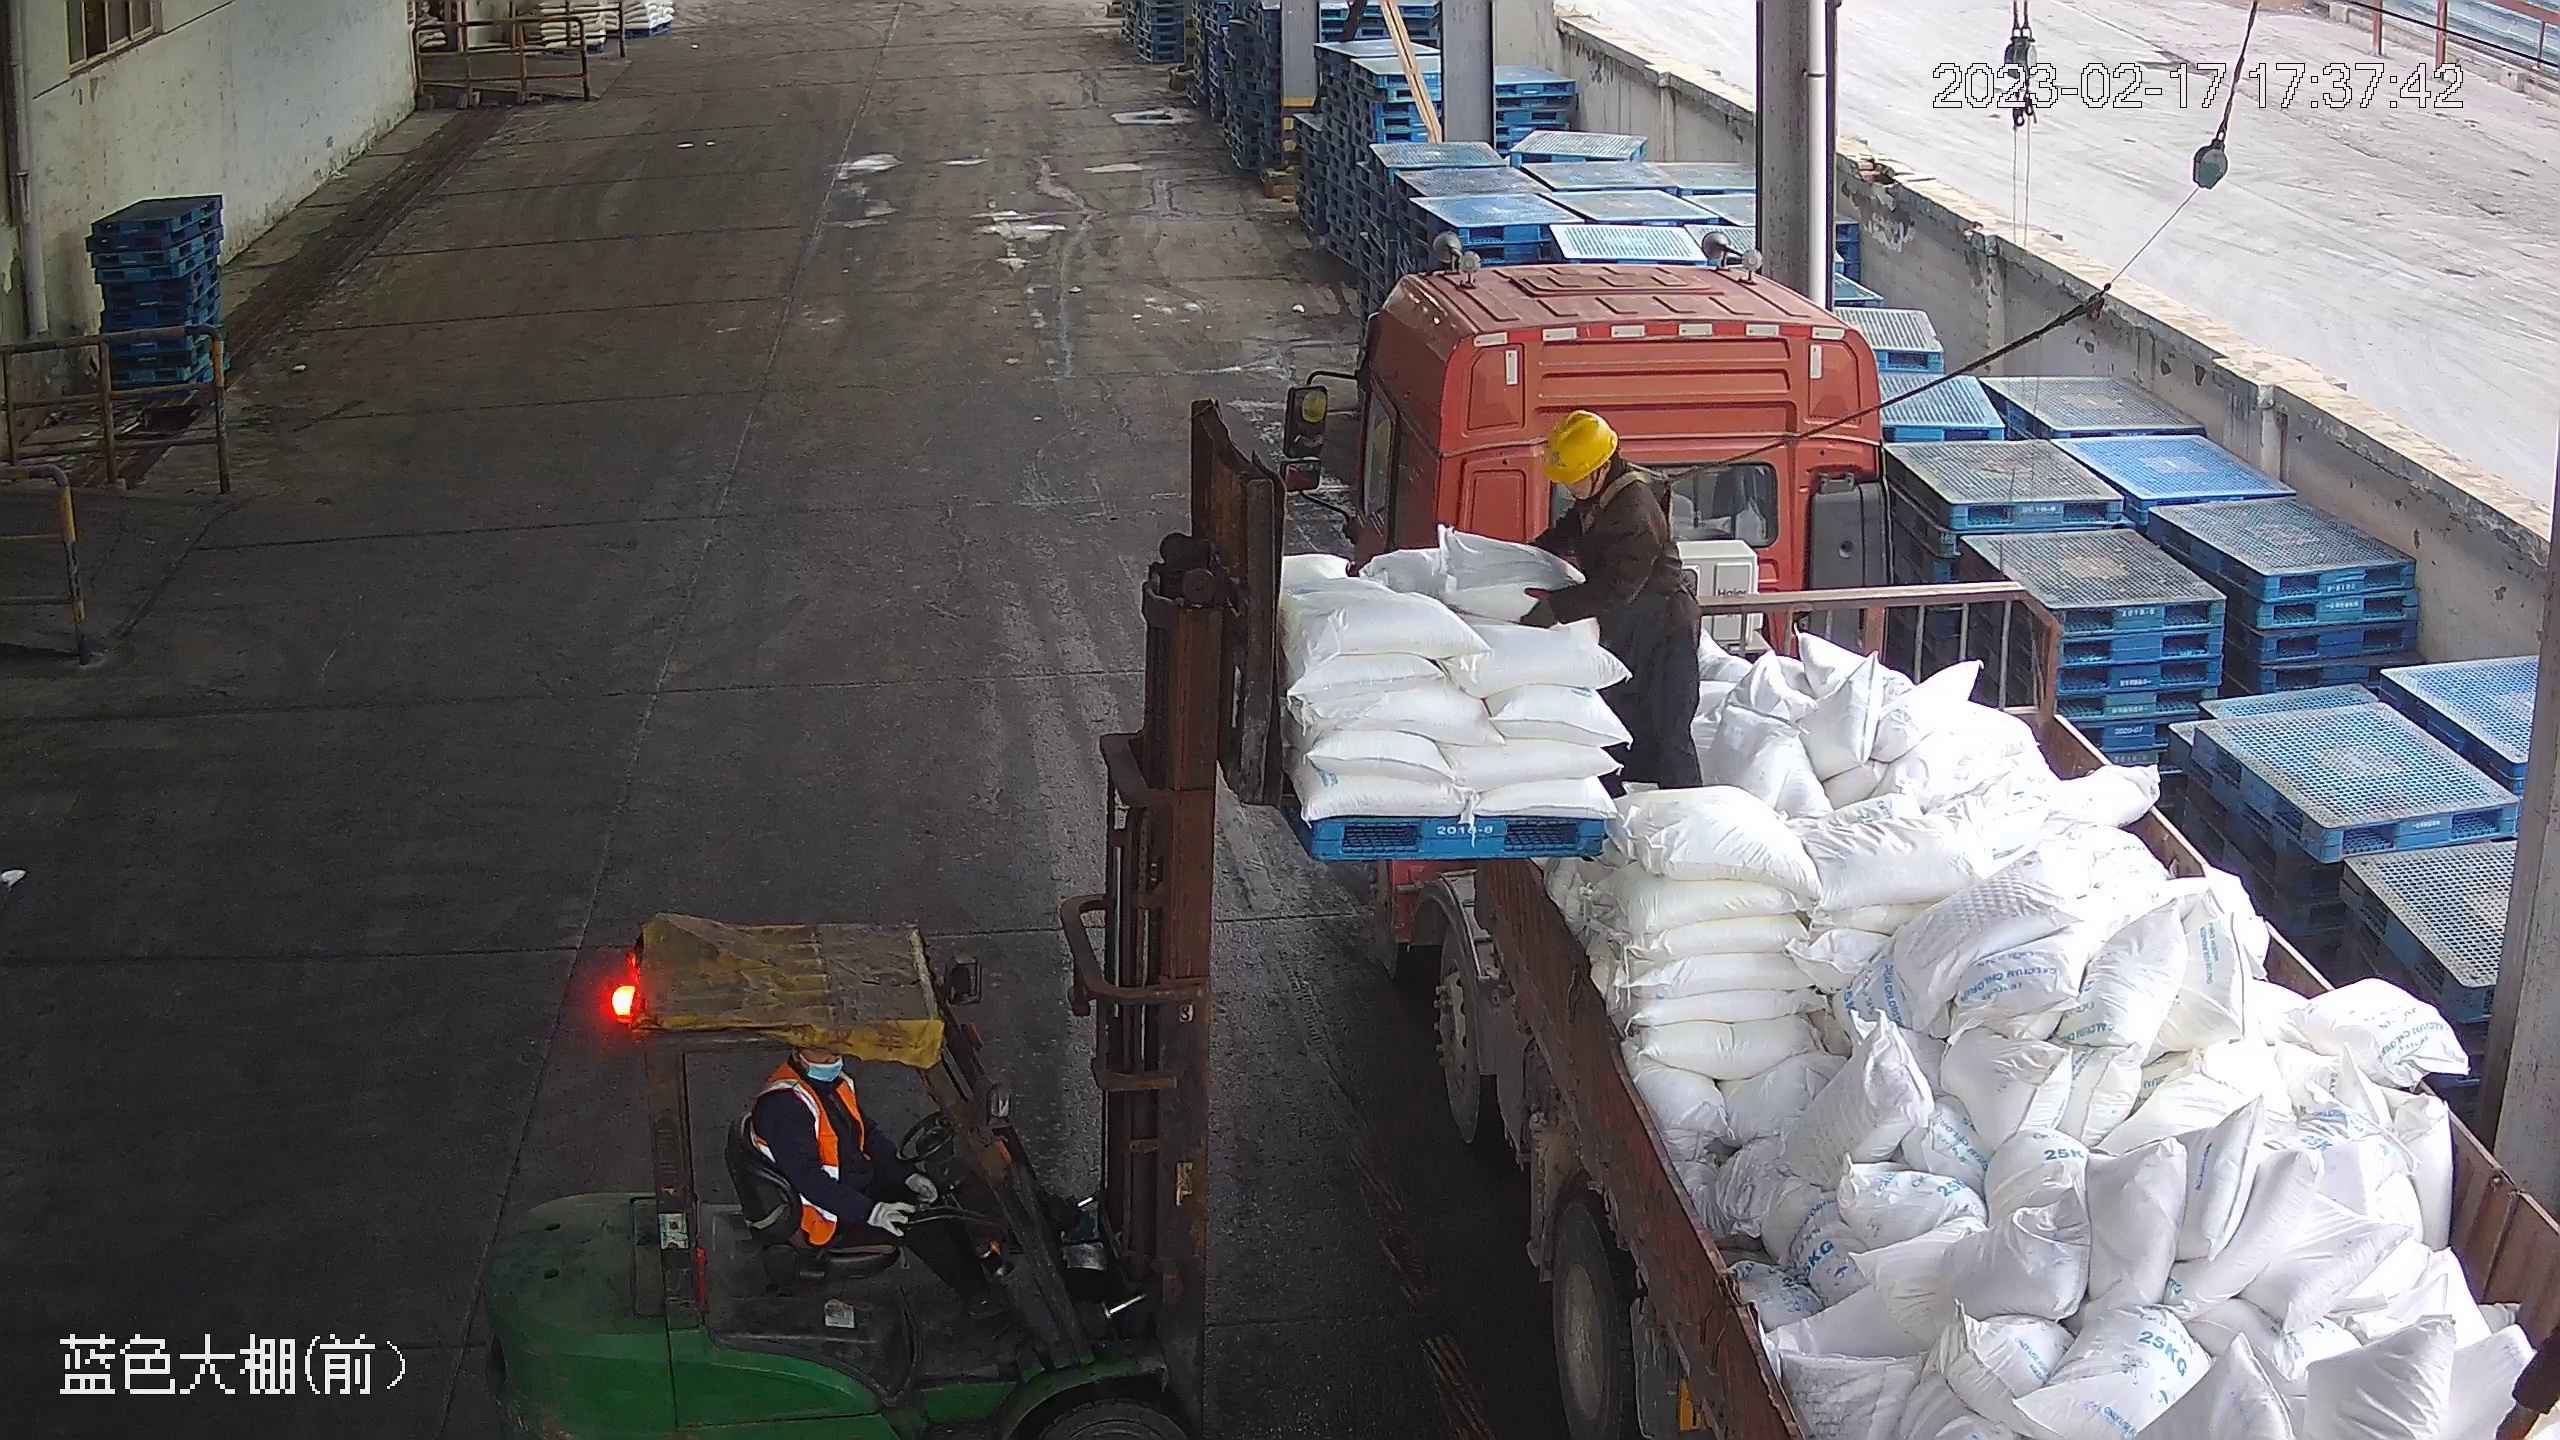belt: (1588, 456, 1701, 546)
head: (1535, 407, 1669, 551), (747, 1038, 878, 1143)
helmet: (1539, 404, 1621, 484)
people: (1511, 405, 1708, 805), (740, 1037, 983, 1341)
truck: (1142, 204, 2557, 1435)
